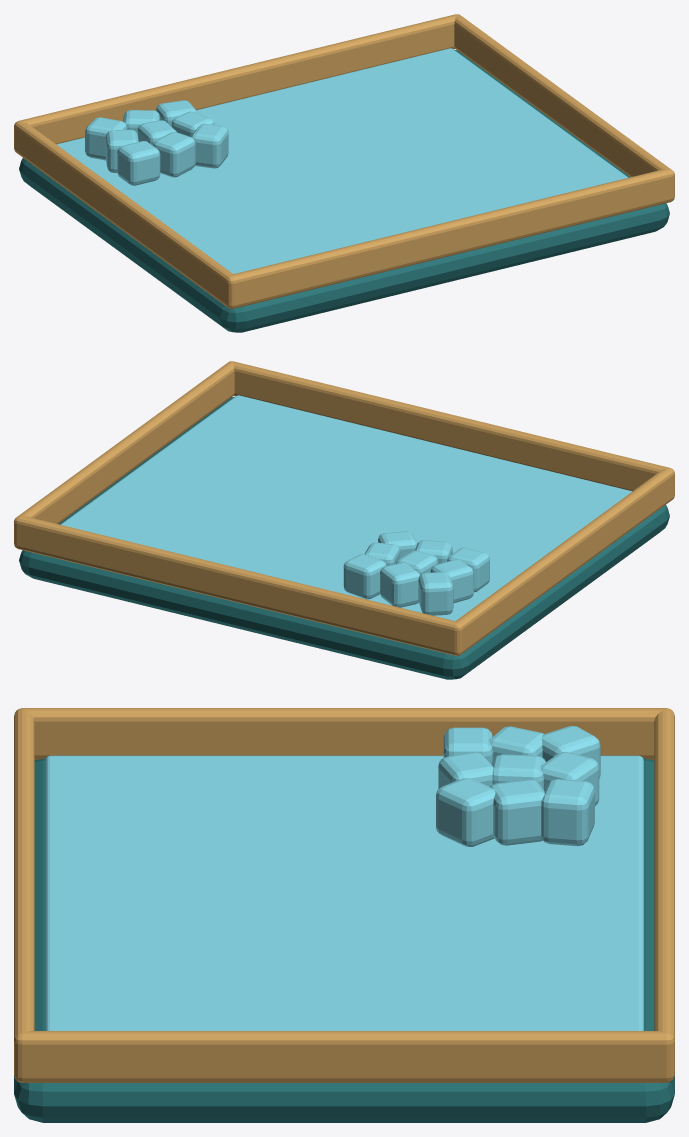
The model's file is ColdStation.glb.
3 views of the same model, one above another, from view 1: azimuth 30°, elevation 25°; view 2: azimuth 150°, elevation 25°; view 3: azimuth 270°, elevation 25° (orthographic). The views are drawn at different scales.
Parts seen in each view (by area): view 1: ColdCeramic, Tray, TrayRim.002, TrayRim.003, TrayRim, TrayRim.001, IceChip, IceChip.001, IceChip.002, IceChip.006, IceChip.003, IceChip.005 (+3 smaller); view 2: ColdCeramic, Tray, TrayRim.003, TrayRim.002, TrayRim, TrayRim.001, IceChip.007, IceChip.008, IceChip.006, IceChip.003, IceChip, IceChip.002 (+3 smaller); view 3: ColdCeramic, TrayRim.001, Tray, TrayRim, TrayRim.003, TrayRim.002, IceChip.002, IceChip.008, IceChip.005, IceChip.006, IceChip.007, IceChip.001 (+3 smaller).
Boxes of the visible parts, x1=… form: ColdCeramic: x1=56, y1=48, x2=628, y2=273; Tray: x1=19, y1=50, x2=669, y2=332; TrayRim.002: x1=225, y1=168, x2=669, y2=307; TrayRim.003: x1=19, y1=14, x2=458, y2=144; TrayRim: x1=14, y1=120, x2=236, y2=308; TrayRim.001: x1=454, y1=14, x2=674, y2=202; IceChip: x1=117, y1=141, x2=160, y2=185; IceChip.001: x1=153, y1=132, x2=195, y2=177; IceChip.002: x1=191, y1=123, x2=228, y2=168; IceChip.006: x1=85, y1=117, x2=127, y2=160; IceChip.003: x1=105, y1=129, x2=138, y2=172; IceChip.005: x1=171, y1=111, x2=214, y2=136; ColdCeramic: x1=60, y1=395, x2=632, y2=620; Tray: x1=19, y1=397, x2=669, y2=679; TrayRim.003: x1=17, y1=515, x2=462, y2=654; TrayRim.002: x1=231, y1=361, x2=674, y2=498; TrayRim: x1=452, y1=467, x2=673, y2=655; TrayRim.001: x1=14, y1=361, x2=234, y2=549; IceChip.007: x1=380, y1=562, x2=419, y2=607; IceChip.008: x1=343, y1=554, x2=386, y2=599; IceChip.006: x1=418, y1=572, x2=453, y2=615; IceChip.003: x1=430, y1=559, x2=473, y2=602; IceChip: x1=447, y1=547, x2=489, y2=592; IceChip.002: x1=378, y1=531, x2=417, y2=558; ColdCeramic: x1=45, y1=755, x2=643, y2=1030; TrayRim.001: x1=14, y1=1031, x2=674, y2=1082; Tray: x1=14, y1=758, x2=674, y2=1122; TrayRim: x1=14, y1=708, x2=674, y2=759; TrayRim.003: x1=654, y1=708, x2=674, y2=1081; TrayRim.002: x1=14, y1=709, x2=34, y2=1082; IceChip.002: x1=436, y1=778, x2=495, y2=846; IceChip.008: x1=541, y1=779, x2=594, y2=846; IceChip.005: x1=490, y1=779, x2=544, y2=845; IceChip.006: x1=541, y1=726, x2=600, y2=778; IceChip.007: x1=540, y1=752, x2=599, y2=805; IceChip.001: x1=438, y1=752, x2=493, y2=789.
Bounding box in the file's own units: 3.8 × 0.58 × 3.2.
